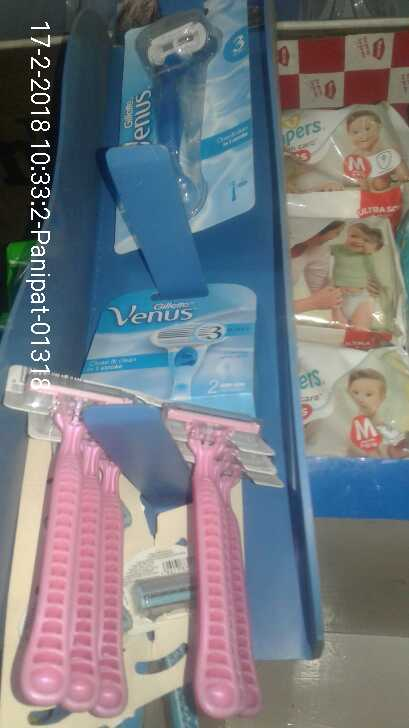venus: (2, 363, 287, 722), (77, 286, 265, 416), (130, 27, 218, 210)
